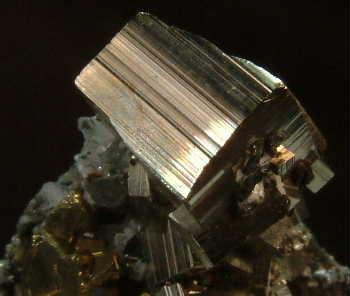pyrite: (75, 14, 320, 208), (145, 205, 213, 278)
